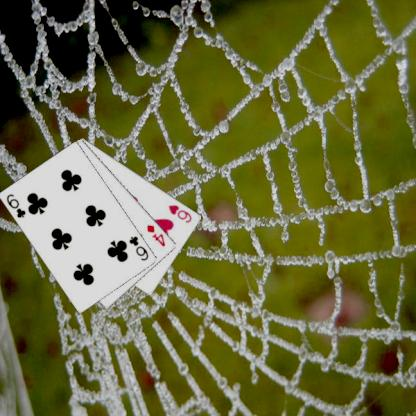4D: (144, 222, 167, 248)
6C: (126, 233, 150, 263), (3, 192, 28, 220)
6H: (166, 202, 193, 224)
